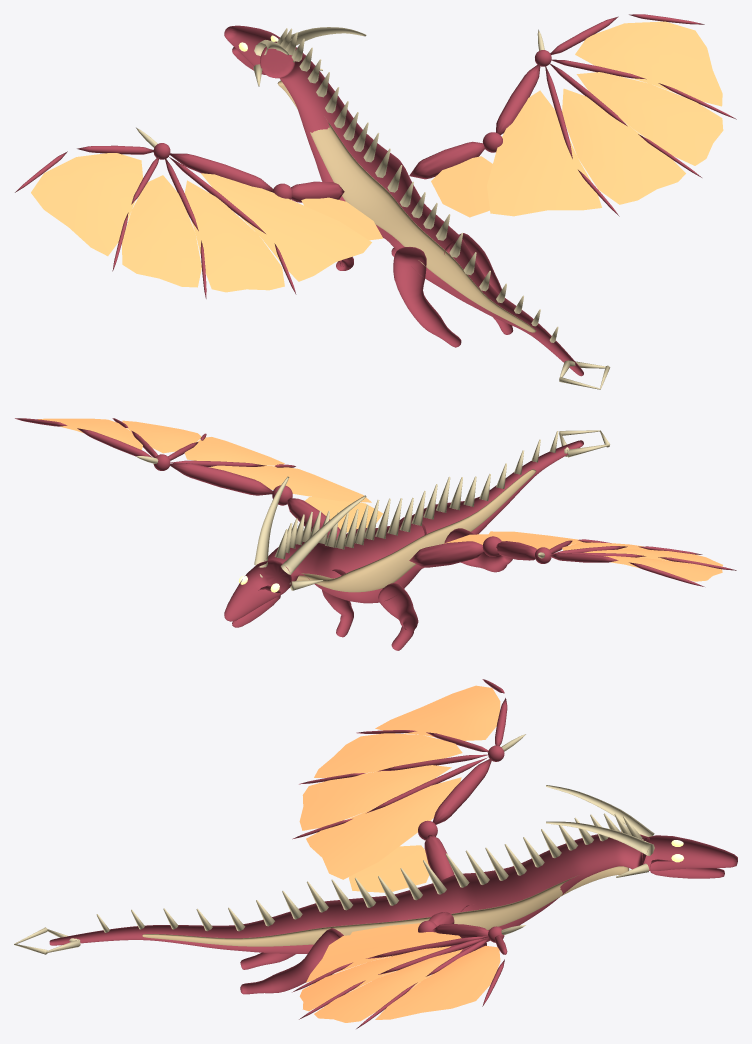
Rendered from sky_dragon.glb.
3 views of the same model, one above another, from view 1: azimuth 30°, elevation 25°; view 2: azimuth 150°, elevation 25°; view 3: azimuth 270°, elevation 25° (orthographic). The views are drawn at different scales.
Parts seen in each view (by area): view 1: Dragon_Wing_R, Dragon_Wing_L, Dragon_Body, Dragon_Belly, Dragon_Horns_Spines; view 2: Dragon_Body, Dragon_Wing_R, Dragon_Wing_L, Dragon_Horns_Spines, Dragon_Belly; view 3: Dragon_Wing_L, Dragon_Body, Dragon_Wing_R, Dragon_Horns_Spines, Dragon_Belly.
Part boxes in pixels (bbox=[...]): Dragon_Wing_R: bbox=[409, 14, 736, 217]; Dragon_Wing_L: bbox=[15, 127, 383, 298]; Dragon_Body: bbox=[224, 25, 583, 376]; Dragon_Belly: bbox=[277, 80, 536, 332]; Dragon_Horns_Spines: bbox=[253, 27, 610, 389]; Dragon_Body: bbox=[224, 440, 583, 650]; Dragon_Wing_R: bbox=[15, 418, 383, 539]; Dragon_Wing_L: bbox=[409, 531, 736, 586]; Dragon_Horns_Spines: bbox=[254, 430, 610, 590]; Dragon_Belly: bbox=[296, 469, 536, 592]; Dragon_Wing_L: bbox=[292, 679, 525, 892]; Dragon_Body: bbox=[49, 832, 737, 994]; Dragon_Wing_R: bbox=[292, 912, 525, 1028]; Dragon_Horns_Spines: bbox=[14, 785, 654, 954]; Dragon_Belly: bbox=[142, 866, 629, 946].
Size of the model in its own units: 12.16 by 3.17 by 11.33.
